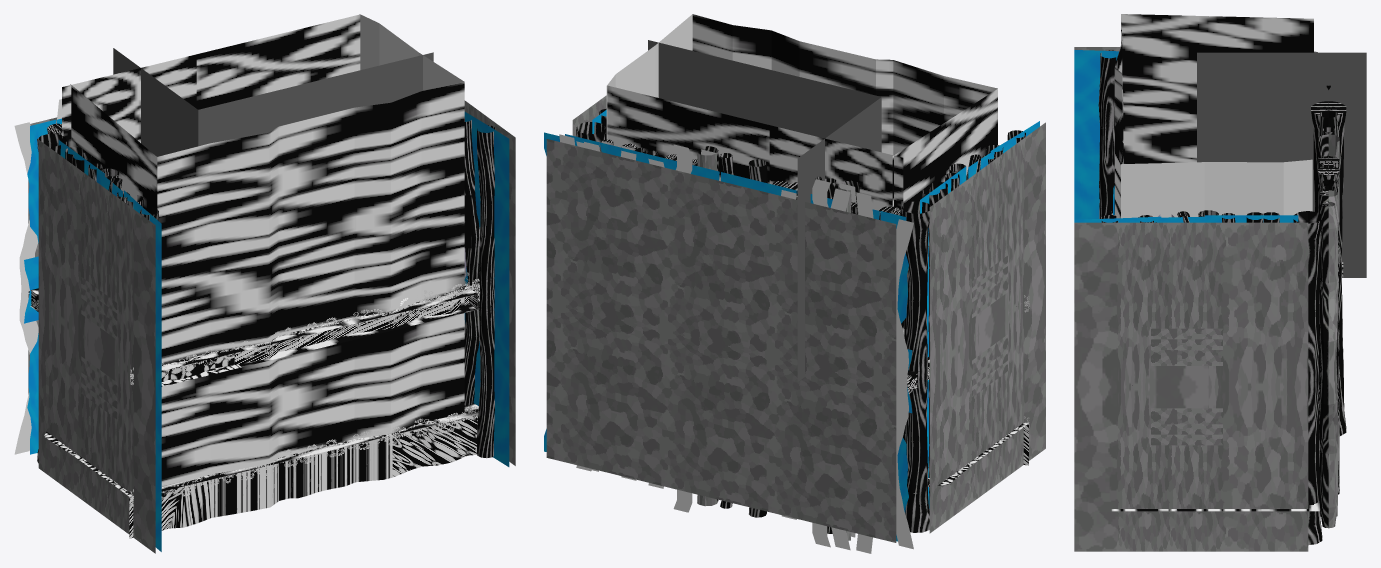
The model's file is mri_20.dae.
3 renders of one model, left to right at view 1: azimuth 30°, elevation 25°; view 2: azimuth 150°, elevation 25°; view 3: azimuth 270°, elevation 25°, orthographic.
Visible parts, largest first — view 1: polySurface176_q00010, S_oku, polySurface178_q00012, S_f1_yukaA, A_f2_rak_r, S_oku_04_part1, polySurface177_q00011, S_f2_yukaA, A_f2_yukaA, S_oku_04_part0, polySurface179, polySurface157_q00009 (+4 smaller); view 2: S_oku, A_f2_rak_r, polySurface178_q00012, polySurface176_q00010, polySurface177_q00011, S_oku_02_part0, S_oku_04_part0, polySurface157_q00009, S_oku_04_part1, S_oku_02_part1, S_f1_yukaA; view 3: S_oku, A_f2_rak_r, polySurface177_q00011, polySurface157_q00009, S_oku_04_part1, polySurface176_q00010, A_f1_yukaA.
Part boxes in pixels (left/top/right/bottom): polySurface176_q00010: left=157, top=82, right=464, bottom=486; S_oku: left=28, top=100, right=515, bottom=553; polySurface178_q00012: left=62, top=14, right=360, bottom=147; S_f1_yukaA: left=44, top=409, right=478, bottom=538; A_f2_rak_r: left=113, top=48, right=433, bottom=156; S_oku_04_part1: left=58, top=112, right=509, bottom=551; polySurface177_q00011: left=70, top=84, right=157, bottom=214; S_f2_yukaA: left=31, top=285, right=468, bottom=382; A_f2_yukaA: left=28, top=288, right=477, bottom=386; S_oku_04_part0: left=24, top=118, right=61, bottom=454; polySurface179: left=130, top=406, right=478, bottom=506; polySurface157_q00009: left=359, top=14, right=464, bottom=90; S_oku: left=546, top=95, right=1045, bottom=542; A_f2_rak_r: left=648, top=40, right=881, bottom=381; polySurface178_q00012: left=607, top=85, right=903, bottom=437; polySurface176_q00010: left=692, top=14, right=997, bottom=155; polySurface177_q00011: left=892, top=89, right=997, bottom=335; S_oku_02_part0: left=576, top=141, right=913, bottom=550; S_oku_04_part0: left=544, top=132, right=912, bottom=541; polySurface157_q00009: left=606, top=14, right=692, bottom=139; S_oku_04_part1: left=592, top=110, right=1039, bottom=508; S_oku_02_part1: left=559, top=134, right=873, bottom=553; S_f1_yukaA: left=928, top=423, right=1028, bottom=486; S_oku: left=1074, top=47, right=1346, bottom=551; A_f2_rak_r: left=1197, top=52, right=1366, bottom=277; polySurface177_q00011: left=1121, top=14, right=1313, bottom=163; polySurface157_q00009: left=1121, top=159, right=1312, bottom=218; S_oku_04_part1: left=1074, top=50, right=1298, bottom=222; polySurface176_q00010: left=1114, top=17, right=1123, bottom=218; A_f1_yukaA: left=1111, top=440, right=1319, bottom=511.
Bounding box in the file's own units: 74.91 × 74.14 × 50.
